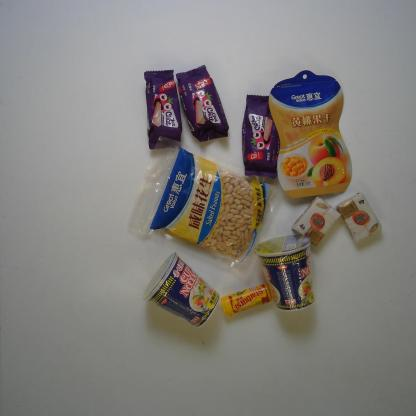Candy: (219, 283, 272, 318)
Dessert: (175, 66, 229, 142), (143, 69, 183, 149), (242, 93, 280, 176)
Dried Fruit: (126, 133, 282, 277), (268, 70, 352, 200)
Instant Noodles: (142, 253, 221, 328), (254, 233, 317, 312)
Tissue: (337, 191, 383, 245), (293, 196, 343, 245)
